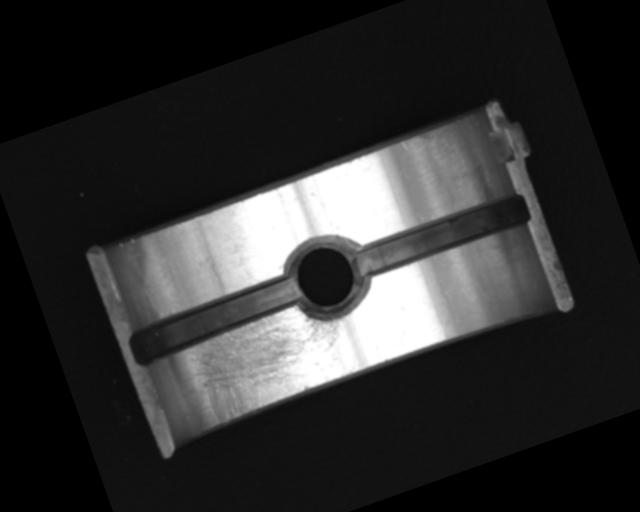gap: (124, 270, 307, 367), (350, 188, 533, 284)
hole: (277, 225, 378, 328)
scratch: (171, 293, 360, 432)
